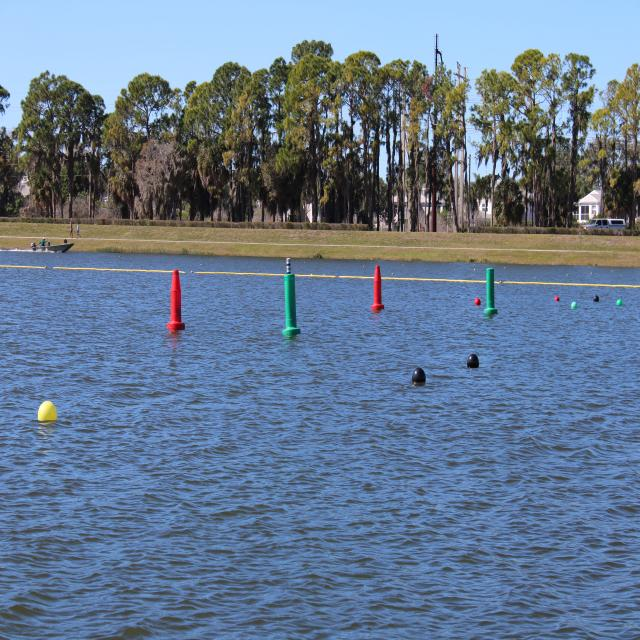black-buoy: (413, 366, 427, 384), (466, 353, 479, 369)
green-buoy: (618, 298, 624, 306)
green-column-buoy: (283, 272, 299, 334), (486, 268, 498, 316)
red-buoy: (474, 296, 480, 306), (555, 294, 561, 302)
red-column-buoy: (168, 269, 184, 329), (371, 265, 383, 311)
yellow-buoy: (36, 402, 55, 424)
